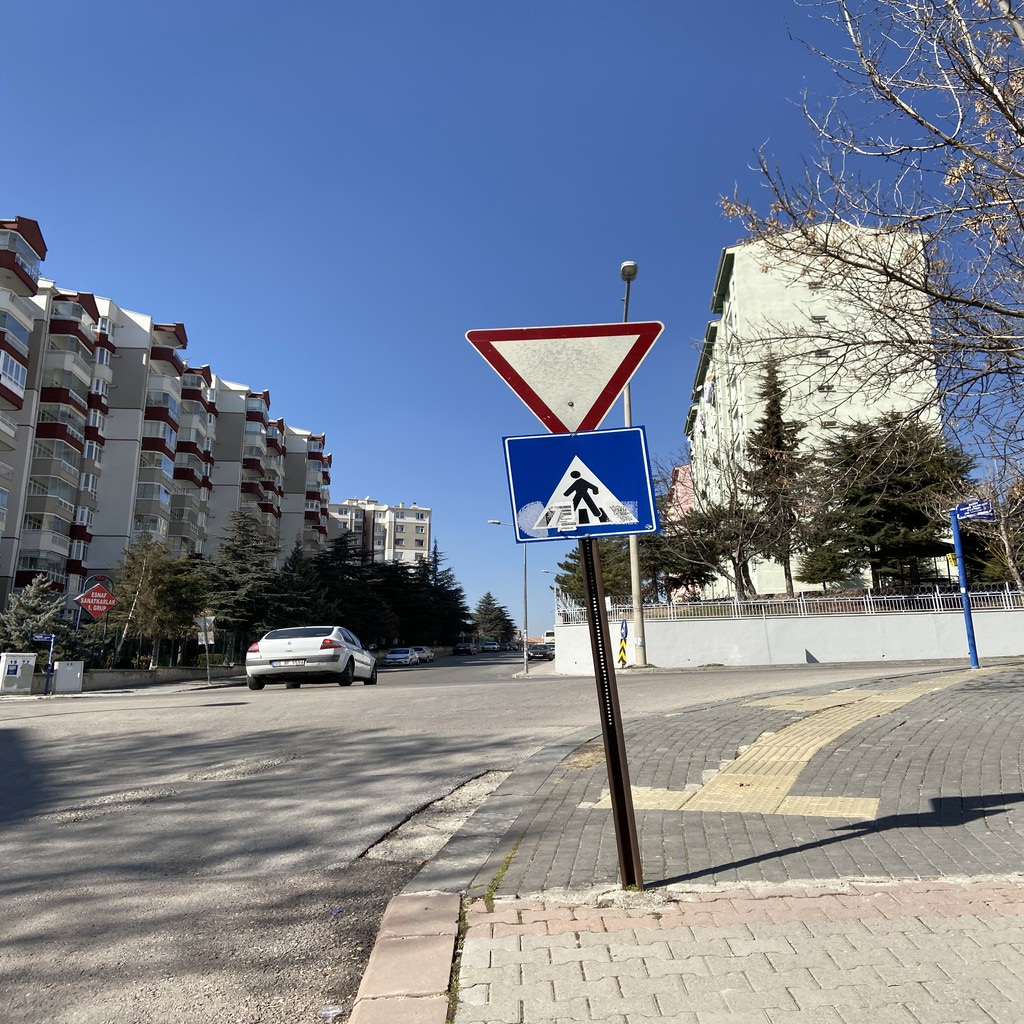Yaya Gecidi: (501, 427, 654, 532)
Yol Ver: (466, 310, 664, 436)
